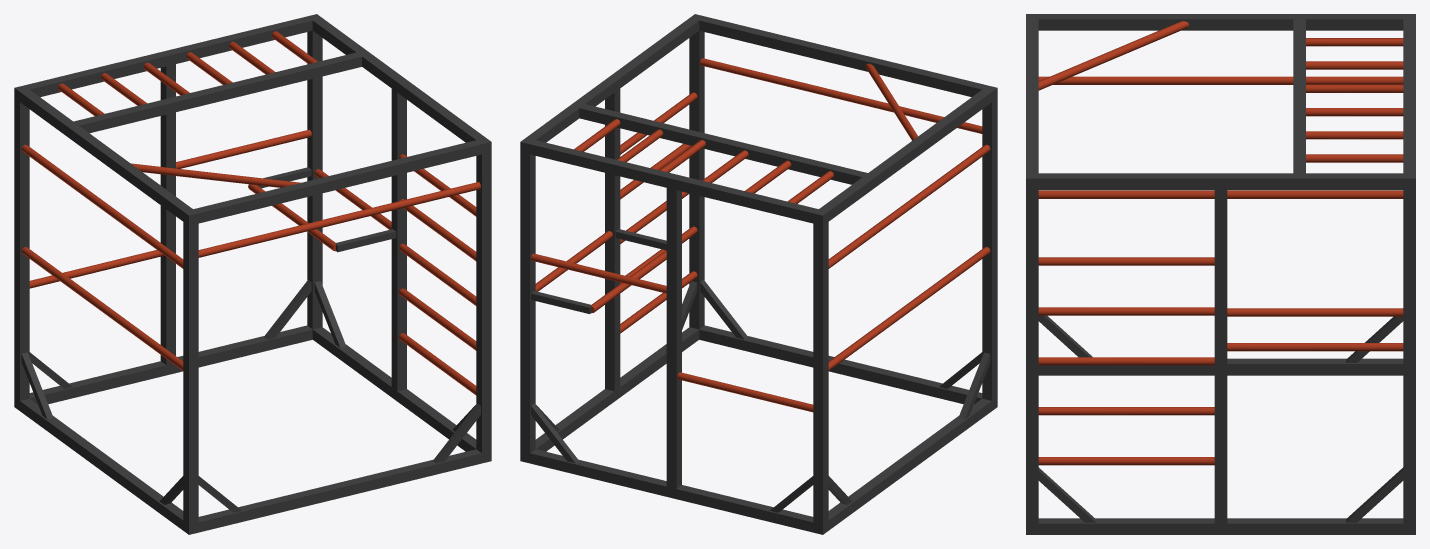
The model's file is Calisthenics_Cube.fbx.
The picture shows the model from 3 angles, left to right: view 1: azimuth 30°, elevation 25°; view 2: azimuth 150°, elevation 25°; view 3: azimuth 270°, elevation 25°; orthographic projection. The views are drawn at different scales.
Visible parts, largest first — view 1: Calisthenics_Cube; view 2: Calisthenics_Cube; view 3: Calisthenics_Cube.
Part boxes in pixels (x1,y1,x2,y2): Calisthenics_Cube: (14, 14, 491, 534); Calisthenics_Cube: (520, 14, 997, 534); Calisthenics_Cube: (1026, 14, 1415, 534).
Size of the model in its own units: 248 by 250 by 248.
